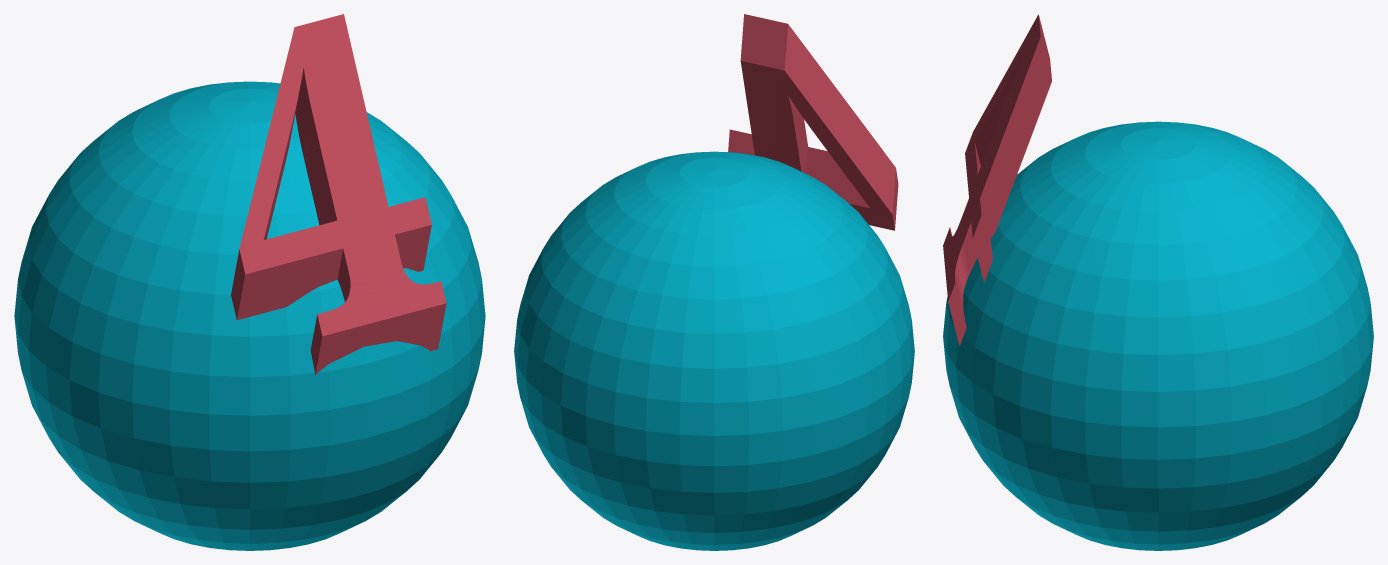
Rendered from number_4.glb.
The picture shows the model from 3 angles, left to right: view 1: azimuth 30°, elevation 25°; view 2: azimuth 150°, elevation 25°; view 3: azimuth 270°, elevation 25°; orthographic projection. The views are drawn at different scales.
Parts seen in each view (by area): view 1: Mesh_Mesh_head_geo.001_lambert2SG.001; view 2: Mesh_Mesh_head_geo.001_lambert2SG.001; view 3: Mesh_Mesh_head_geo.001_lambert2SG.001.
Part boxes in pixels (x1,y1,x2,y2): Mesh_Mesh_head_geo.001_lambert2SG.001: [14, 14, 485, 550]; Mesh_Mesh_head_geo.001_lambert2SG.001: [514, 14, 914, 550]; Mesh_Mesh_head_geo.001_lambert2SG.001: [943, 14, 1373, 550].
Size of the model in its own units: 20 by 26.03 by 20.
